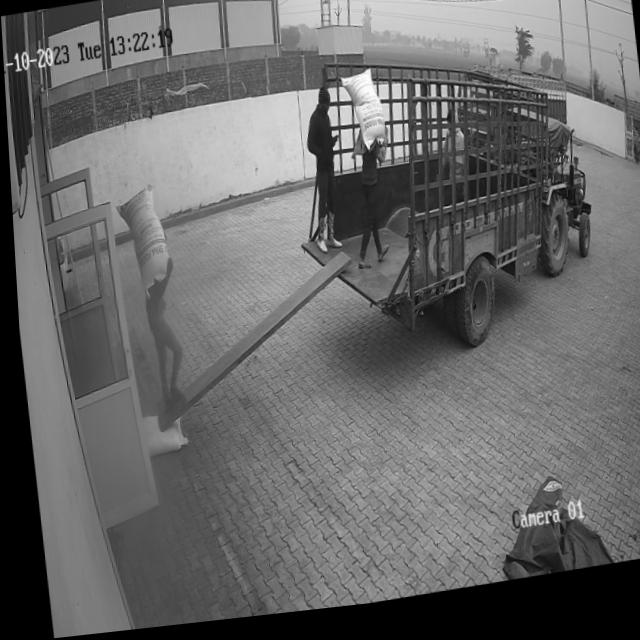sack: (111, 186, 169, 297), (338, 76, 384, 160)
